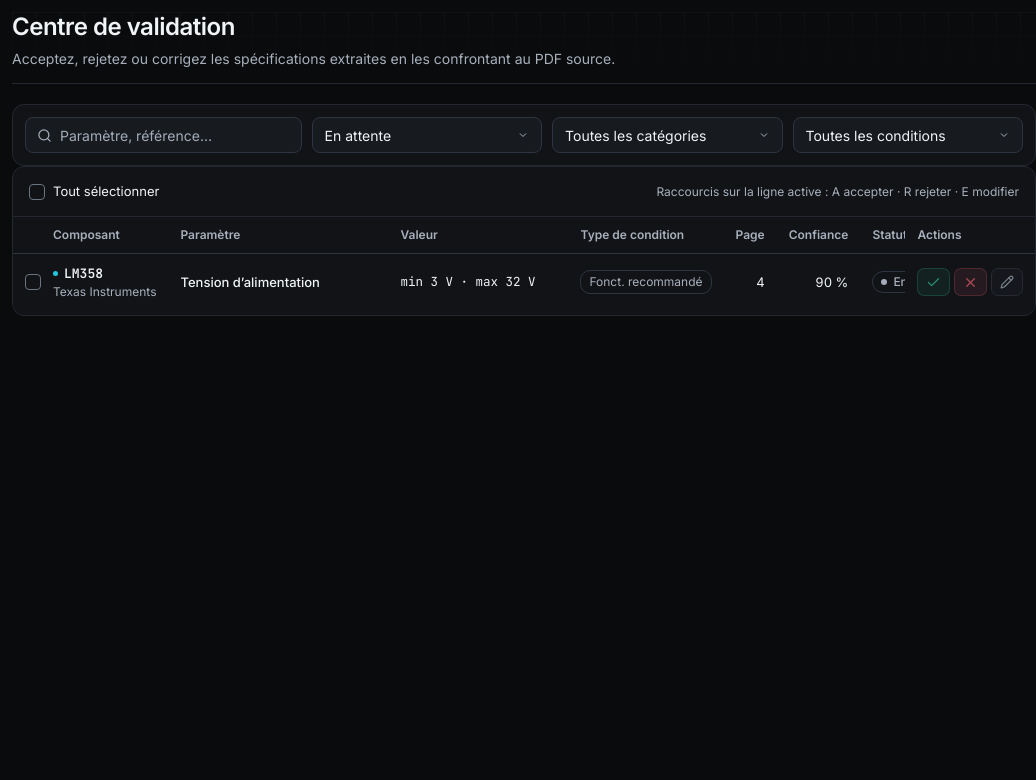
it: ValidationPage › rejette via l'endpoint reject et affiche l'erreur réelle en cas d'échec
Click the button named "Rejeter" at (970, 282), box x1=954 y1=268 x2=987 y2=296
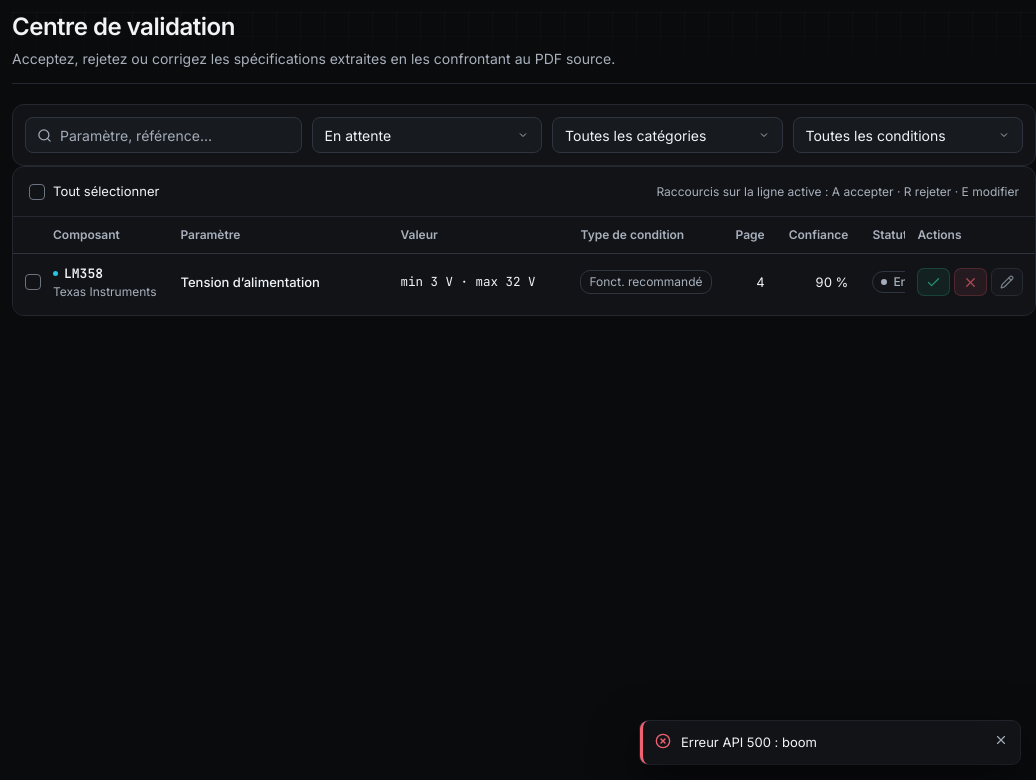
Check: the text "Erreur API 500 : boom" is shown, box x1=681 y1=734 x2=817 y2=750
